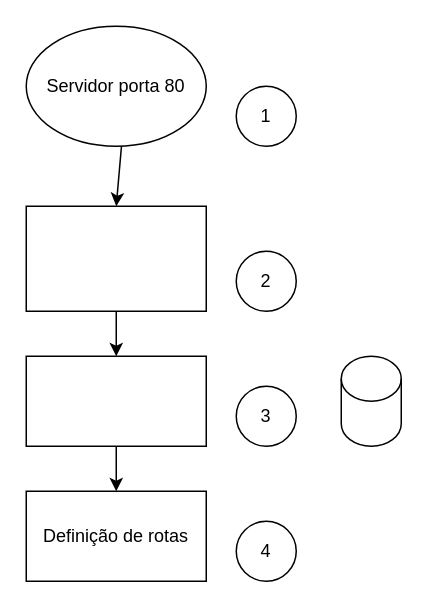
Image size: 428x608. Some labels were removed from this diagram. Each missing label, with the centre of its shape:
"Definição da identidade do projeto" belongs at (x=115, y=258).
"Definição do banco de dados" belongs at (x=115, y=400).
